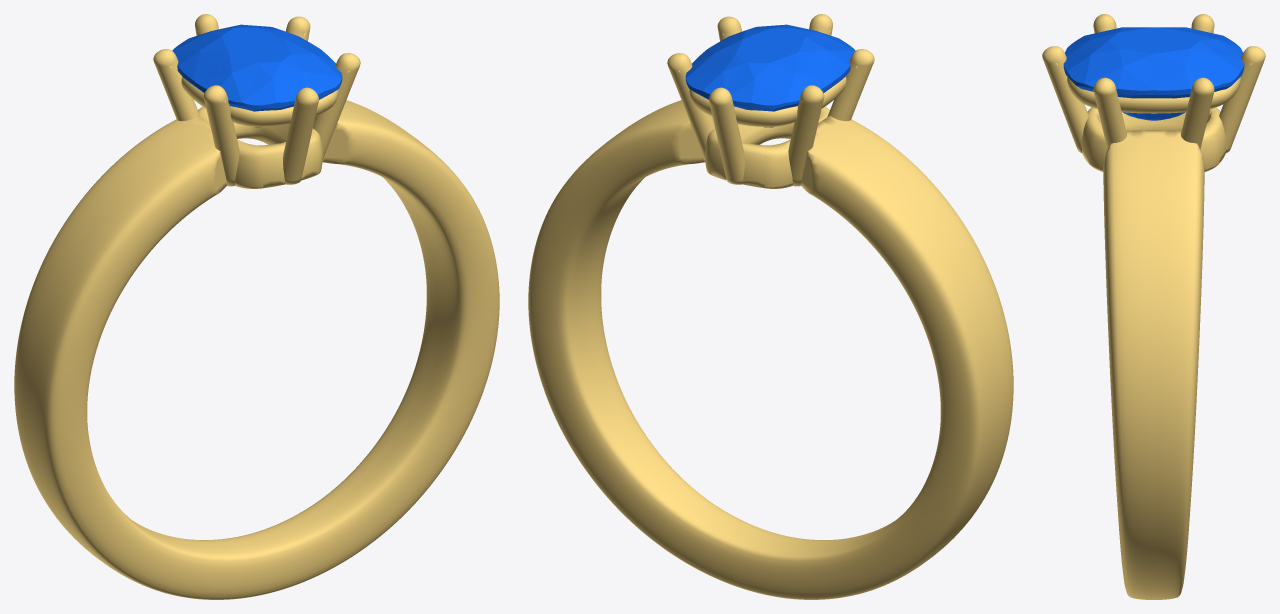
Rendered from bluesapphire-cushion-yellowgold-6prong-straighttaperedband-nosidestones.glb.
The picture shows the model from 3 angles, left to right: view 1: azimuth 30°, elevation 25°; view 2: azimuth 150°, elevation 25°; view 3: azimuth 270°, elevation 25°; orthographic projection.
Visible parts, largest first — view 1: metal.002, stone; view 2: metal.002, stone; view 3: metal.002, stone.
Part boxes in pixels (x1,y1,x2,y2): metal.002: [14, 14, 499, 599]; stone: [172, 24, 342, 127]; metal.002: [528, 14, 1013, 599]; stone: [685, 24, 855, 127]; metal.002: [1042, 14, 1265, 599]; stone: [1063, 27, 1244, 120].
Size of the model in its own units: 20.48 by 23.24 by 8.8.
